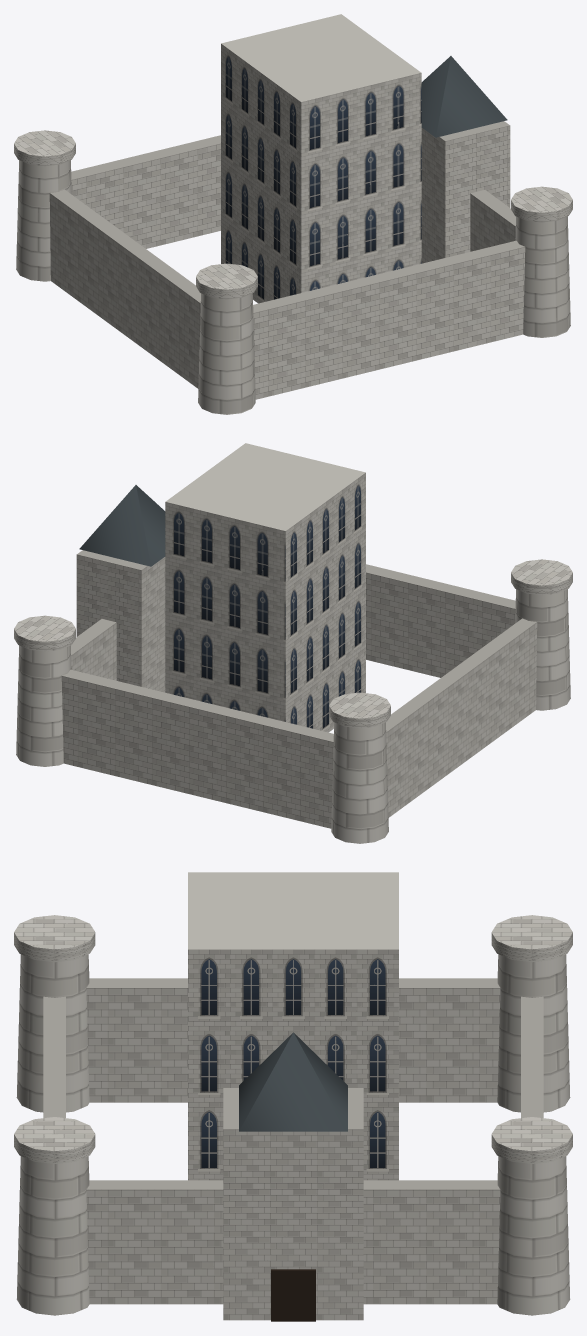
The model's file is gravensteen.obj.
The picture shows the model from 3 angles, top to bottom: view 1: azimuth 30°, elevation 25°; view 2: azimuth 150°, elevation 25°; view 3: azimuth 270°, elevation 25°; orthographic projection. The views are drawn at different scales.
Parts seen in each view (by area): view 1: part5, part4, part1, part3, part14, part8, part12, part6, part15, part2, part7, part9 (+1 smaller); view 2: part5, part3, part1, part4, part14, part6, part10, part8, part15, part2, part7, part9 (+1 smaller); view 3: part5, part2, part14, part1, part10, part12, part6, part8, part15, part7, part9, part11 (+4 smaller).
Part boxes in pixels (x1,y1,x2,y2): part5: (221,14,421,303); part4: (253,240,525,399); part1: (49,189,200,388); part3: (71,135,220,248); part14: (421,121,510,263); part8: (198,293,255,414); part12: (515,216,570,337); part6: (16,160,71,281); part15: (421,56,507,137); part2: (470,190,515,251); part7: (14,130,75,166); part9: (196,263,257,299); part5: (165,443,365,732); part3: (61,669,333,828); part1: (386,618,537,817); part4: (366,564,515,677); part14: (76,550,165,692); part6: (331,722,388,843); part10: (16,645,71,766); part8: (515,589,570,710); part15: (79,485,165,566); part2: (71,619,116,680); part7: (329,692,390,728); part9: (511,559,572,595); part5: (188,872,398,1180); part2: (86,1180,500,1304); part14: (223,1088,363,1320); part1: (86,978,500,1102); part10: (497,1156,570,1315); part12: (16,1156,89,1315); part6: (497,954,570,1112); part8: (16,954,89,1112); part15: (239,1032,347,1131); part7: (491,915,572,962); part9: (14,915,95,962); part11: (491,1117,572,1163).
Size of the model in its own units: 40.79 by 24.5 by 39.8.
5 materials, 2 textured.
